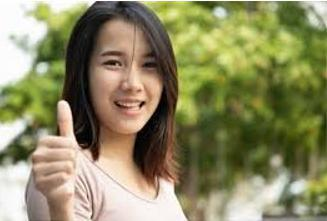Sober: (95, 25, 163, 124)
